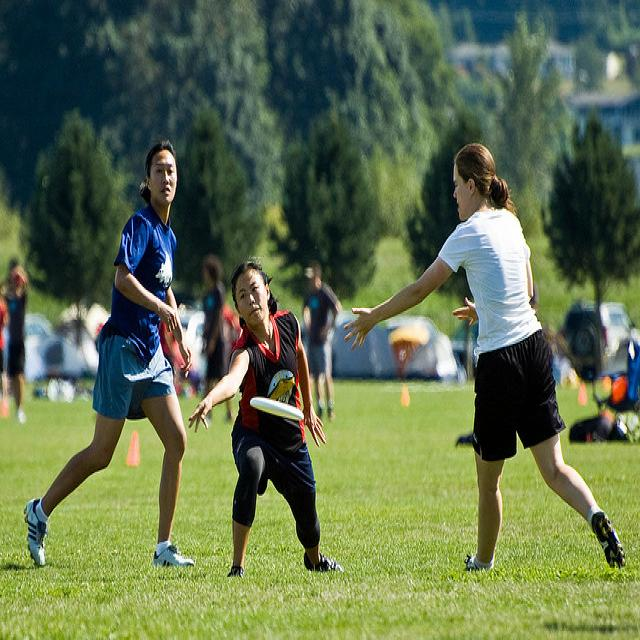Vehicle: (557, 300, 640, 379)
